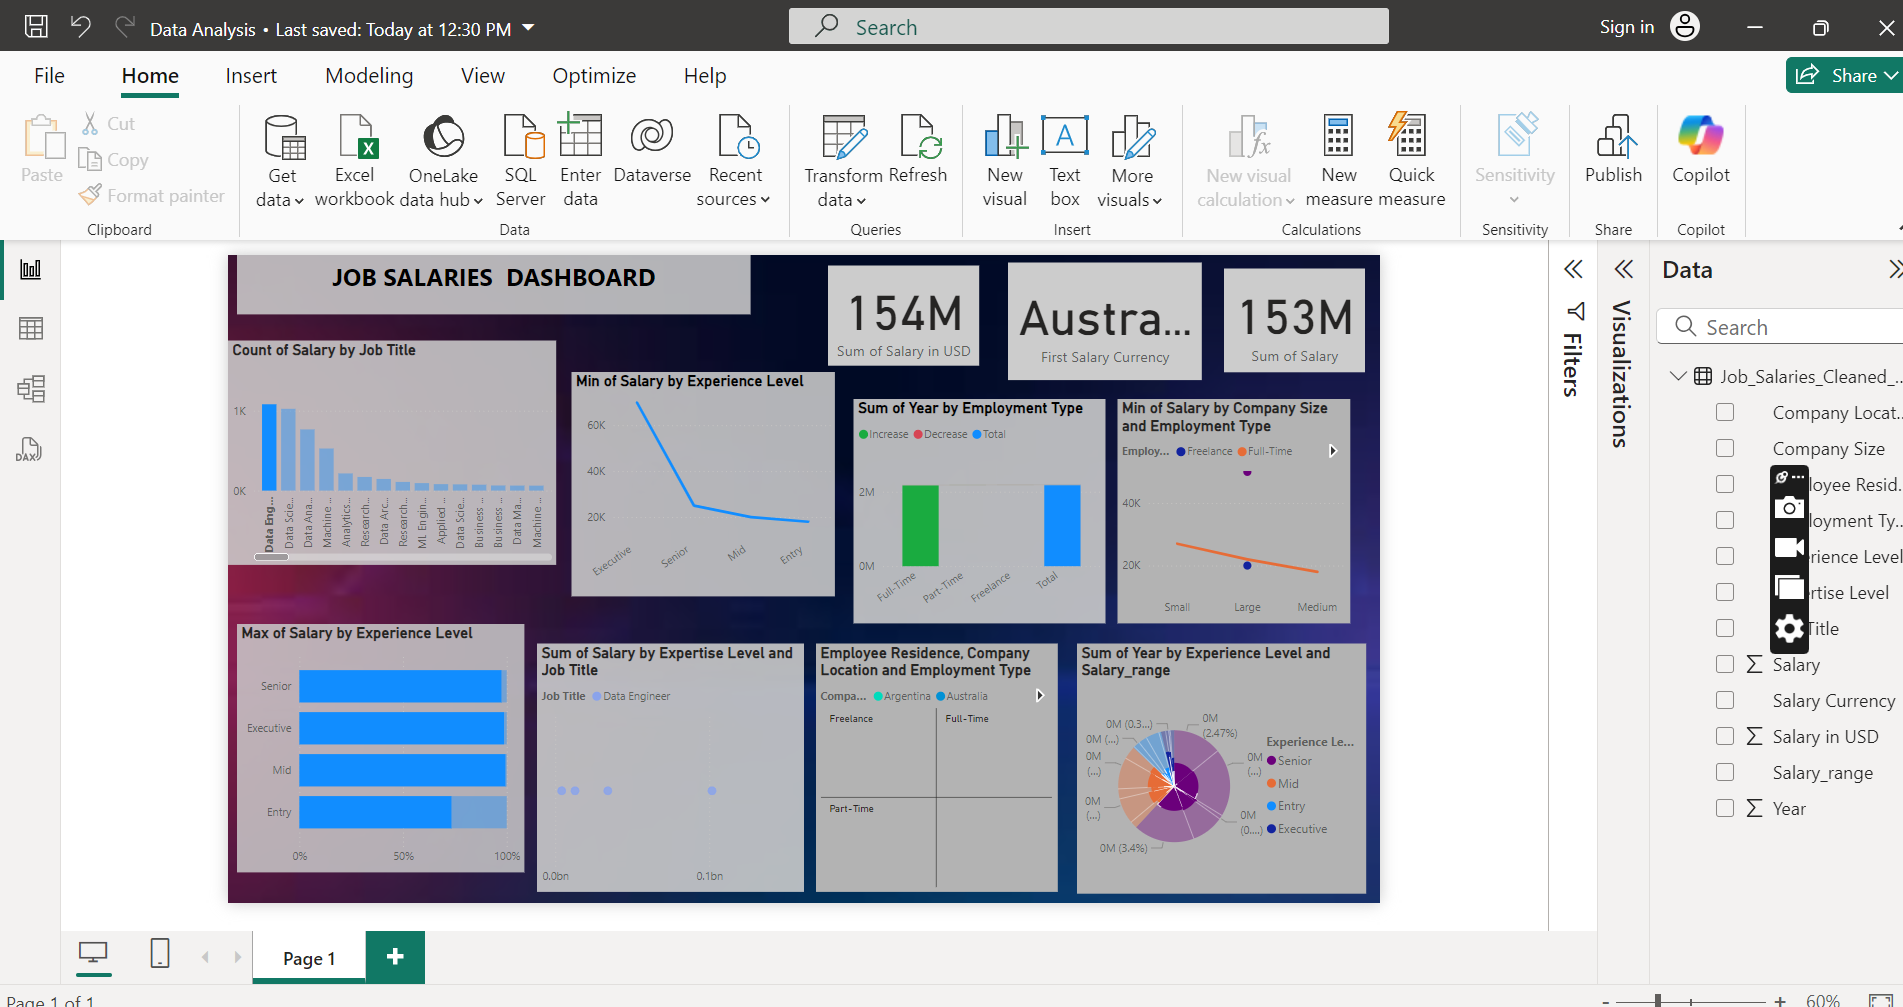

Layout of this report page (visuals, bound fields, positions):
{"tool":"powerbi","page":{"name":"Page 1","canvas":[1280,720],"ordinal":0},"visuals":[{"type":"textbox","box":[9.4,0,570.7,66.1],"z":0},{"type":"columnChart","fields":{"Category":["Job_Salaries_Cleaned_dataset.Job Title"],"Y":["CountNonNull(Job_Salaries_Cleaned_dataset.Salary)"]},"box":[0,94.5,364.7,249.5],"z":1},{"type":"lineChart","fields":{"Category":["Job_Salaries_Cleaned_dataset.Experience Level"],"Y":["Min(Job_Salaries_Cleaned_dataset.Salary)"]},"box":[381.7,130.4,292.9,249.5],"z":2},{"type":"hundredPercentStackedBarChart","fields":{"Category":["Job_Salaries_Cleaned_dataset.Experience Level"],"Y":["Max(Job_Salaries_Cleaned_dataset.Salary)"]},"box":[9.4,410.1,319.4,275.9],"z":3},{"type":"waterfallChart","fields":{"Y":["Sum(Job_Salaries_Cleaned_dataset.Year)"],"Category":["Job_Salaries_Cleaned_dataset.Employment Type"]},"box":[695.4,160.6,279.7,249.5],"z":4},{"type":"scatterChart","fields":{"Category":["Job_Salaries_Cleaned_dataset.Expertise Level"],"Series":["Job_Salaries_Cleaned_dataset.Job Title"],"X":["Sum(Job_Salaries_Cleaned_dataset.Salary)"]},"box":[343.9,430.9,296.7,275.9],"z":5},{"type":"hundredPercentStackedAreaChart","fields":{"Category":["Job_Salaries_Cleaned_dataset.Employee Residence"],"Series":["Job_Salaries_Cleaned_dataset.Company Location"],"Rows":["Job_Salaries_Cleaned_dataset.Employment Type"]},"box":[653.9,430.9,268.3,275.9],"z":6},{"type":"pieChart","fields":{"Category":["Job_Salaries_Cleaned_dataset.Experience Level"],"Series":["Job_Salaries_Cleaned_dataset.Salary_range"],"Y":["Sum(Job_Salaries_Cleaned_dataset.Year)"]},"box":[943,430.9,321.3,277.8],"z":7},{"type":"lineChart","fields":{"Category":["Job_Salaries_Cleaned_dataset.Company Size"],"Series":["Job_Salaries_Cleaned_dataset.Employment Type"],"Y":["Min(Job_Salaries_Cleaned_dataset.Salary)"]},"box":[988.4,160.6,258.9,249.5],"z":8},{"type":"card","fields":{"Values":["Sum(Job_Salaries_Cleaned_dataset.Salary)"]},"box":[1107.4,15.1,156.9,115.3],"z":9},{"type":"card","fields":{"Values":["Min(Job_Salaries_Cleaned_dataset.Salary Currency)"]},"box":[867.4,7.6,215.4,130.4],"z":10},{"type":"card","fields":{"Values":["Sum(Job_Salaries_Cleaned_dataset.Salary in USD)"]},"box":[667.1,11.3,168.2,111.5],"z":11}]}

Visuals, with their boxes on the page's 1280x720 design canvas (x1, y1, x2, y2). These are canvas units, not pixel positions in the 1903x1007 screenshot, which may show the page scaled, cropped or inside an application window:
textbox: <bbox>9, 0, 580, 66</bbox>
columnChart - Job_Salaries_Cleaned_dataset.Job Title x CountNonNull(Job_Salaries_Cleaned_dataset.Salary): <bbox>0, 94, 365, 344</bbox>
lineChart - Job_Salaries_Cleaned_dataset.Experience Level x Min(Job_Salaries_Cleaned_dataset.Salary): <bbox>382, 130, 675, 380</bbox>
hundredPercentStackedBarChart - Job_Salaries_Cleaned_dataset.Experience Level x Max(Job_Salaries_Cleaned_dataset.Salary): <bbox>9, 410, 329, 686</bbox>
waterfallChart - Sum(Job_Salaries_Cleaned_dataset.Year) x Job_Salaries_Cleaned_dataset.Employment Type: <bbox>695, 161, 975, 410</bbox>
scatterChart - Job_Salaries_Cleaned_dataset.Expertise Level x Job_Salaries_Cleaned_dataset.Job Title: <bbox>344, 431, 641, 707</bbox>
hundredPercentStackedAreaChart - Job_Salaries_Cleaned_dataset.Employee Residence x Job_Salaries_Cleaned_dataset.Company Location: <bbox>654, 431, 922, 707</bbox>
pieChart - Job_Salaries_Cleaned_dataset.Experience Level x Job_Salaries_Cleaned_dataset.Salary_range: <bbox>943, 431, 1264, 709</bbox>
lineChart - Job_Salaries_Cleaned_dataset.Company Size x Job_Salaries_Cleaned_dataset.Employment Type: <bbox>988, 161, 1247, 410</bbox>
card - Sum(Job_Salaries_Cleaned_dataset.Salary): <bbox>1107, 15, 1264, 130</bbox>
card - Min(Job_Salaries_Cleaned_dataset.Salary Currency): <bbox>867, 8, 1083, 138</bbox>
card - Sum(Job_Salaries_Cleaned_dataset.Salary in USD): <bbox>667, 11, 835, 123</bbox>
